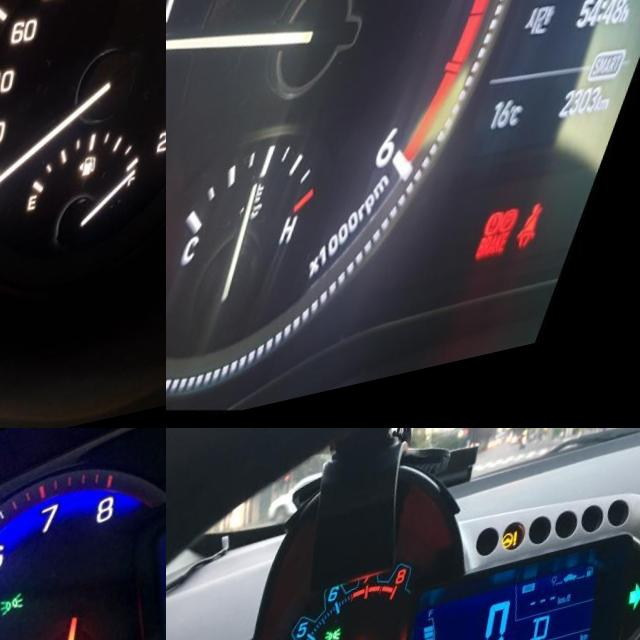SideLamp: (4, 594, 33, 621), (332, 635, 351, 640)
